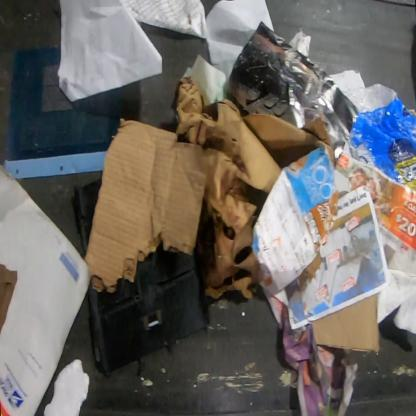cardboard: (174, 75, 335, 301), (0, 164, 92, 416), (84, 117, 208, 293), (88, 242, 210, 379), (251, 144, 339, 297), (311, 292, 381, 356), (74, 179, 102, 256), (0, 262, 18, 338)
soft_plastic: (3, 45, 125, 181), (339, 81, 415, 193)
